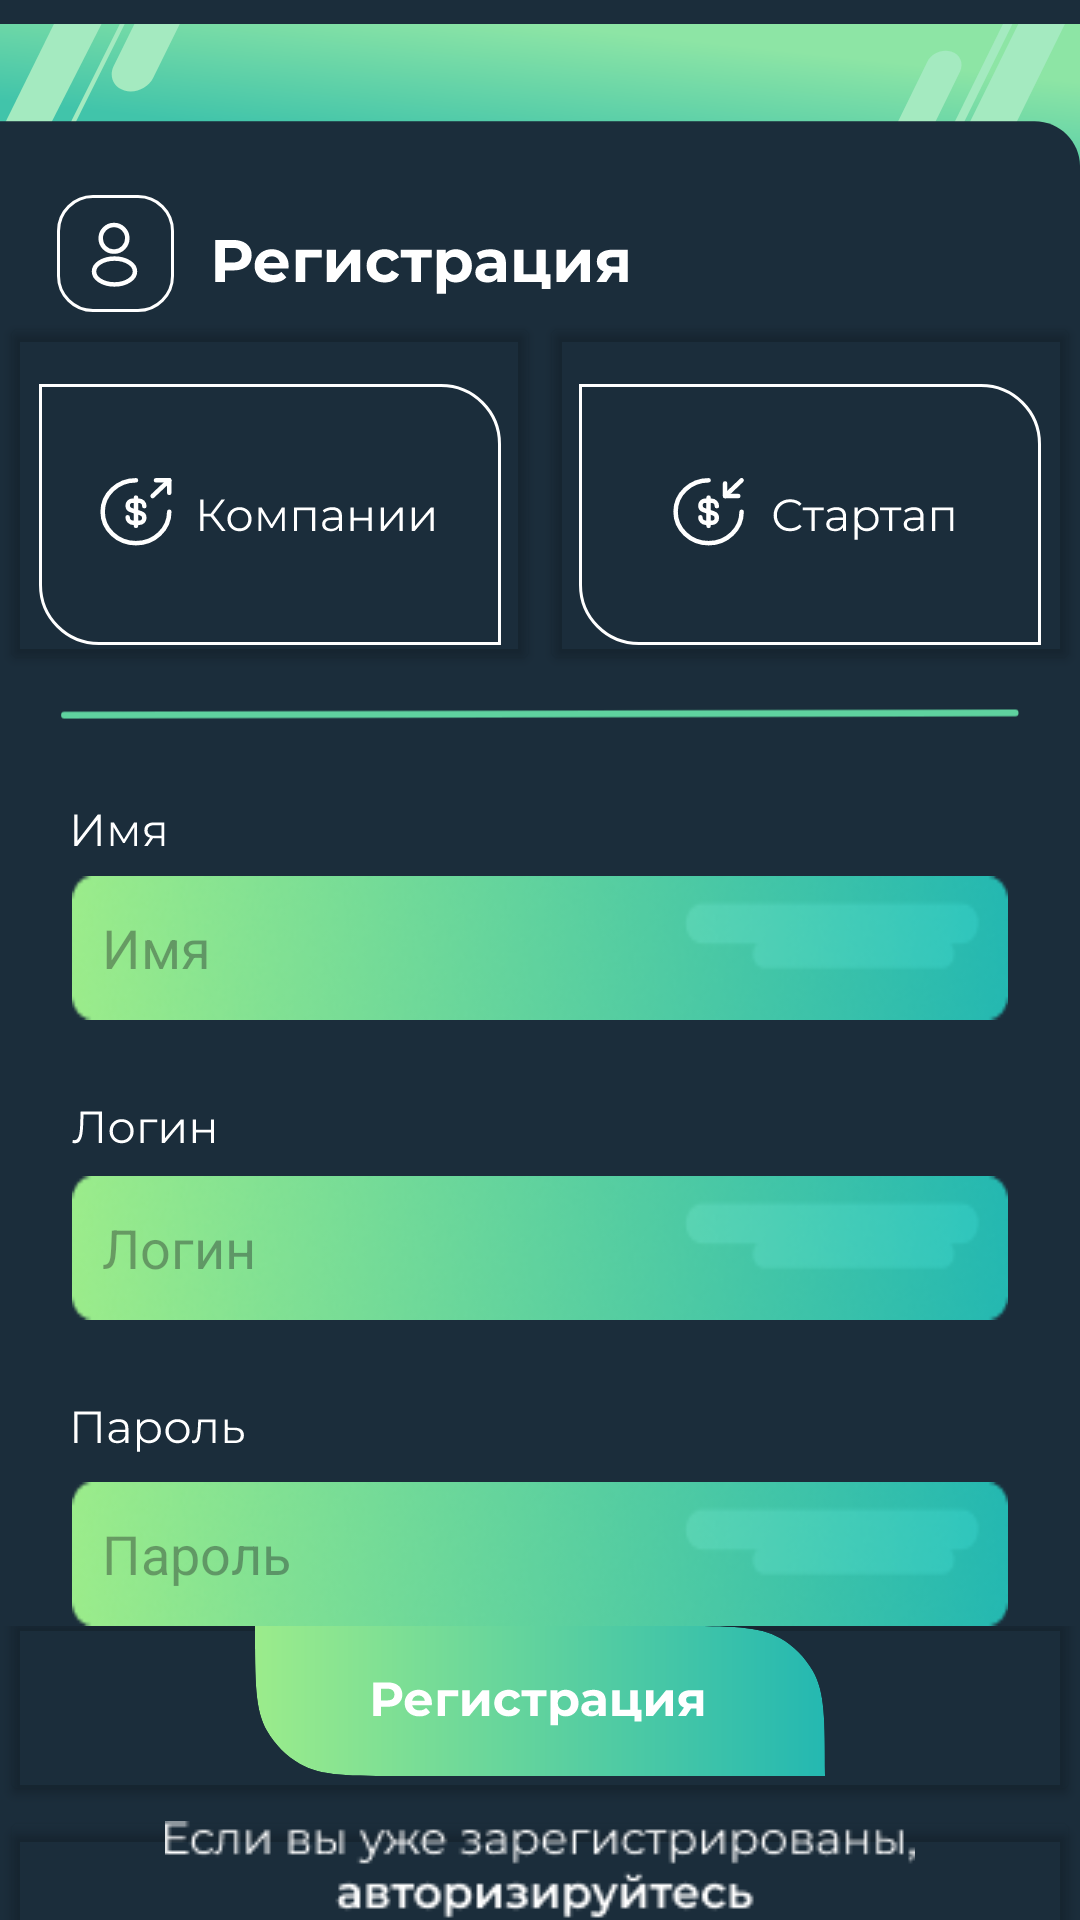

Screen size 1080w x 1920h. Icon name, then its box in pixels as (x1, y1, x2, y2):
profile: (57, 195, 174, 312)
